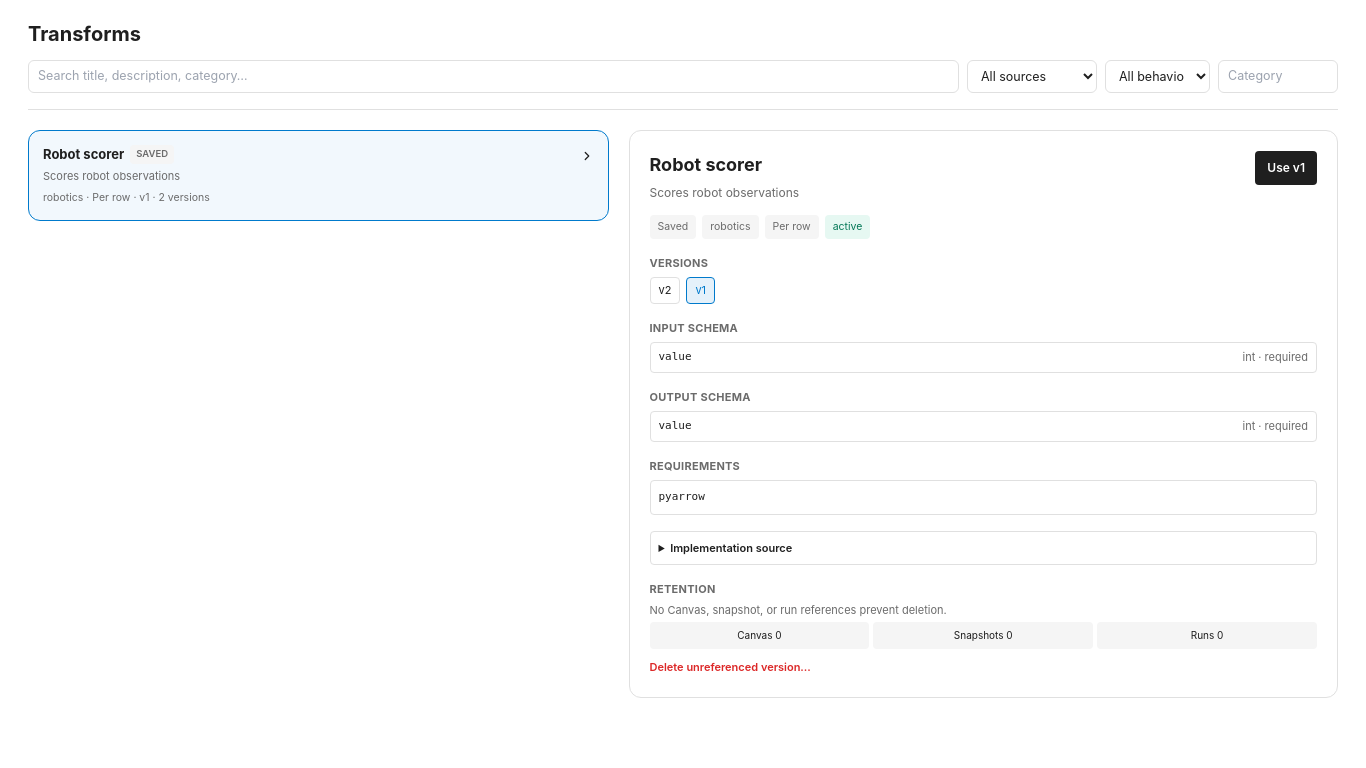
Scenario: TransformsLibrary › shows the exact user-authored source for a promoted version
The image size is (1366, 768).
Check: the element "Implementation source" does not show "SHA-256", box [650, 530, 1317, 565]
Check: the text "row['score'] = 1" is not shown
Click the heading "Implementation source": (731, 548) [670, 540, 792, 554]
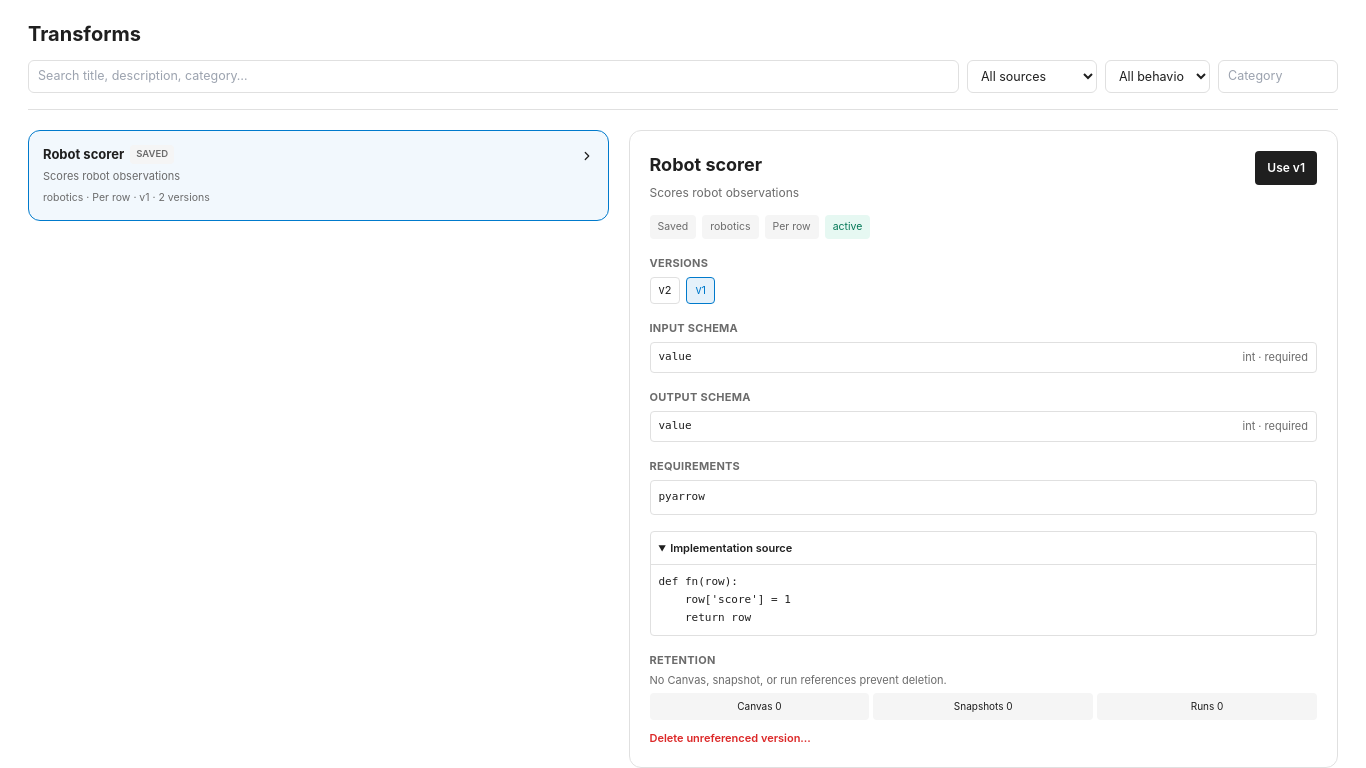
Check: the text "row['score'] = 1" is shown, box [658, 575, 791, 624]
